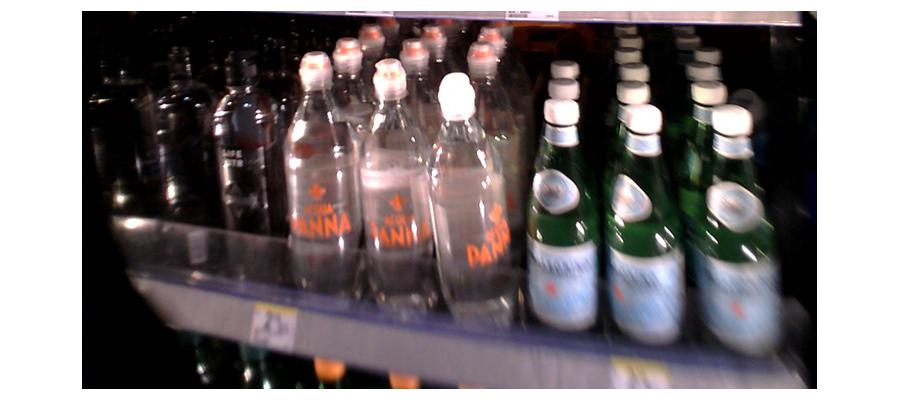bottle: (605, 103, 687, 358), (696, 117, 781, 358), (427, 74, 505, 326), (281, 49, 354, 300), (529, 83, 599, 342), (359, 71, 428, 309), (211, 66, 278, 284), (153, 67, 208, 270)
